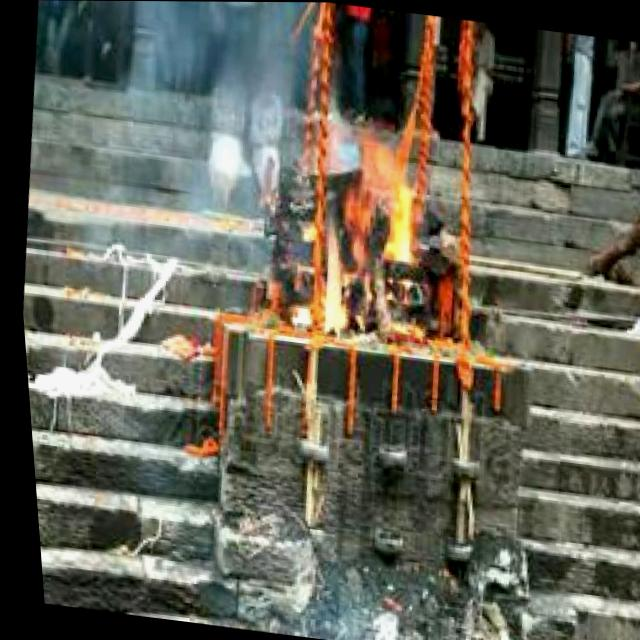helmet: (294, 113, 436, 346)
